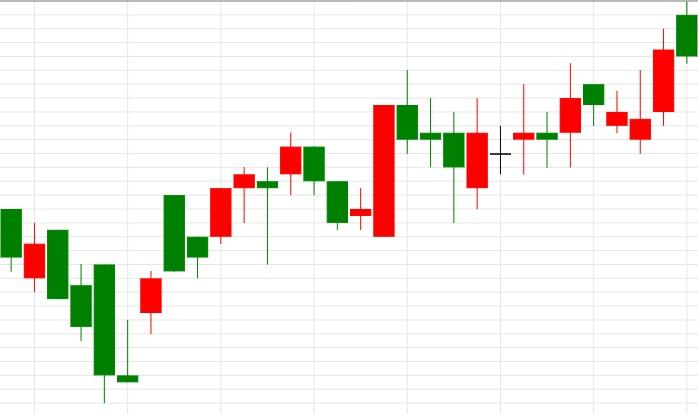morning_star_rise: (1, 209, 162, 403)
